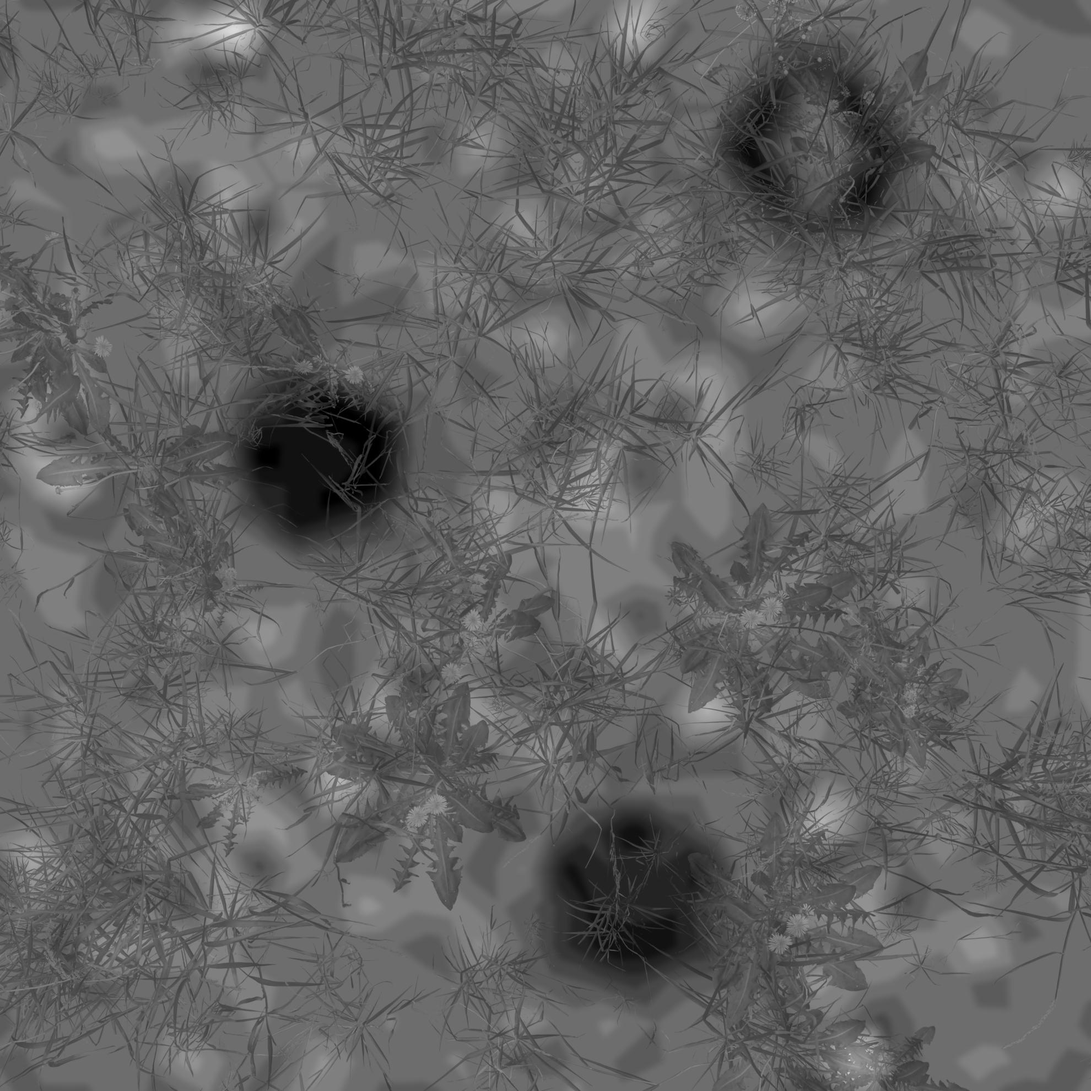landmine: (712, 61, 908, 231), (543, 807, 718, 973), (247, 395, 380, 531)
